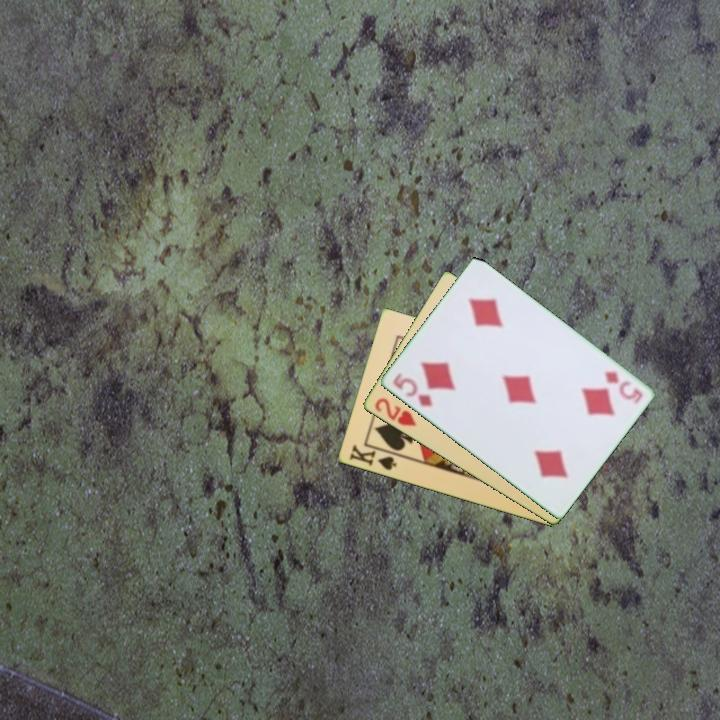2h: (371, 394, 419, 429)
5d: (389, 369, 436, 410), (600, 367, 645, 407)
Ks: (345, 441, 402, 473)
